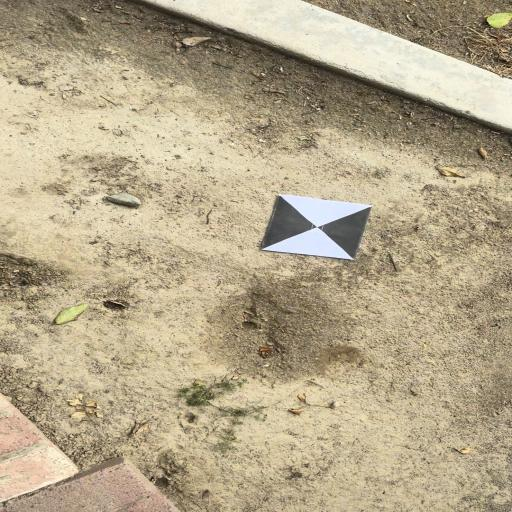target: (267, 196, 373, 259)
